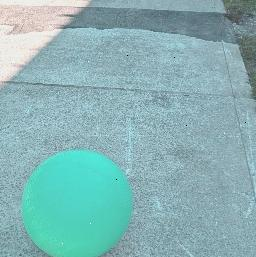algae: (19, 149, 133, 257)
